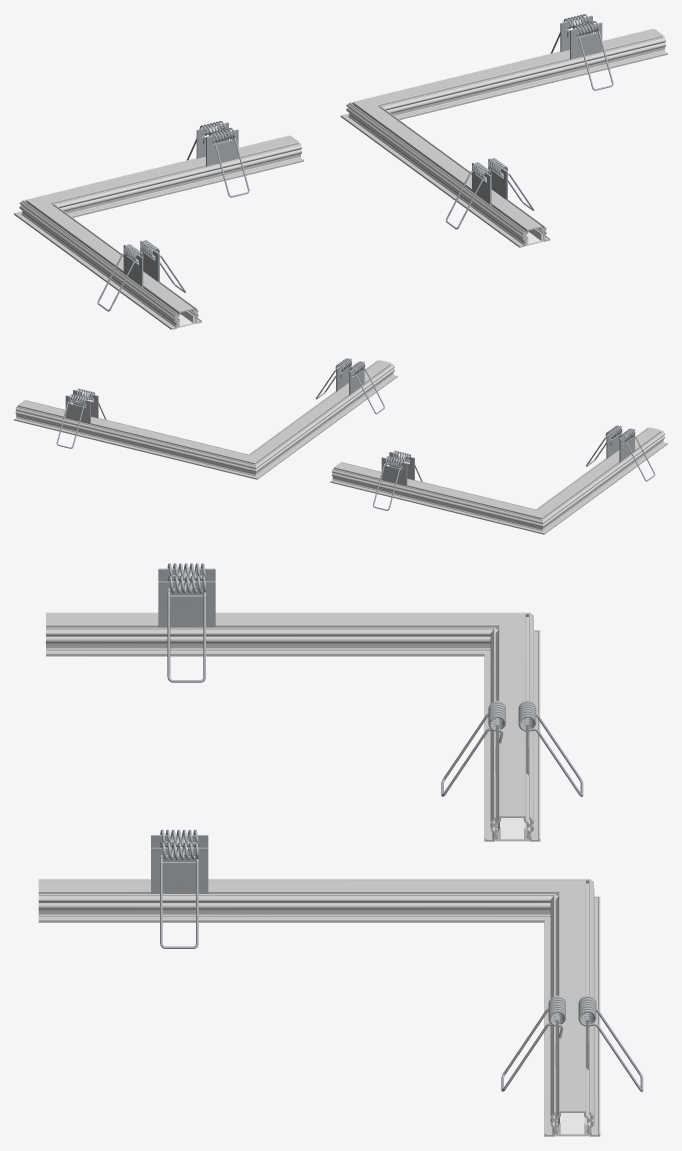
File: Fit15SlimEmbutido-curva-direita-esquerda.glb
3 renders of one model, top to bottom at view 1: azimuth 30°, elevation 25°; view 2: azimuth 150°, elevation 25°; view 3: azimuth 270°, elevation 25°, orthographic. The views are drawn at different scales.
Parts seen in each view (by area): view 1: 3DGeom-14, 3DGeom-2, 3DGeom-13, 3DGeom-1, 3DGeom-4 (×2), 3DGeom-17 (×2), 3DGeom-5 (×2), 3DGeom-18 (×2); view 2: 3DGeom-14, 3DGeom-2, 3DGeom-13, 3DGeom-1, 3DGeom-4 (×3), 3DGeom-17 (×2), 3DGeom-18 (×2), 3DGeom-5 (×2); view 3: 3DGeom-13, 3DGeom-1, 3DGeom-14, 3DGeom-2, 3DGeom-5 (×3), 3DGeom-18 (×3), 3DGeom-4, 3DGeom-17.
Part boxes in pixels (x1,y1,x2,y2): 3DGeom-14: (342, 28, 667, 119); 3DGeom-2: (15, 135, 303, 217); 3DGeom-13: (340, 102, 550, 247); 3DGeom-1: (14, 200, 201, 329); 3DGeom-4 (×2): (123, 129, 238, 287); 3DGeom-17 (×2): (472, 22, 602, 205); 3DGeom-5 (×2): (97, 127, 249, 311); 3DGeom-18 (×2): (445, 21, 613, 229); 3DGeom-14: (14, 400, 257, 479); 3DGeom-2: (330, 462, 544, 534); 3DGeom-13: (249, 360, 397, 479); 3DGeom-1: (536, 427, 667, 534); 3DGeom-4 (×3): (381, 425, 634, 486); 3DGeom-17 (×2): (65, 361, 364, 424); 3DGeom-18 (×2): (56, 361, 384, 448); 3DGeom-5 (×2): (373, 428, 655, 510); 3DGeom-13: (38, 879, 599, 922); 3DGeom-1: (46, 612, 538, 656); 3DGeom-14: (544, 879, 600, 1136); 3DGeom-2: (484, 612, 540, 841); 3DGeom-5 (×3): (167, 576, 583, 796); 3DGeom-18 (×3): (160, 842, 643, 1091); 3DGeom-4: (158, 581, 215, 627); 3DGeom-17: (151, 847, 208, 893).
Bounding box in the file's own units: 0.5486 × 0.041 × 0.2691.
Materials: 3 (1 with a texture image).
